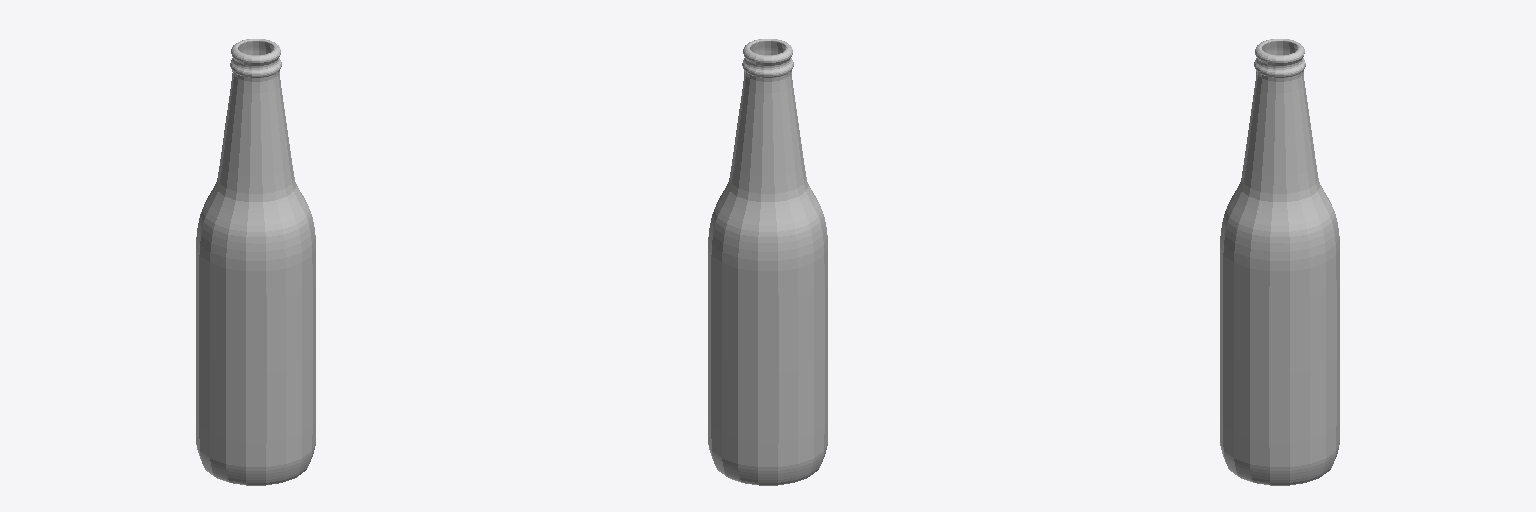
The model's file is beerbottle.obj.
The picture shows the model from 3 angles: view 1: azimuth 30°, elevation 25°; view 2: azimuth 150°, elevation 25°; view 3: azimuth 270°, elevation 25°; orthographic projection.
Parts seen in each view (by area): view 1: Beer_bottle_Circle; view 2: Beer_bottle_Circle; view 3: Beer_bottle_Circle.
Boxes of the visible parts, x1=… form: Beer_bottle_Circle: x1=196, y1=39, x2=315, y2=485; Beer_bottle_Circle: x1=708, y1=39, x2=827, y2=485; Beer_bottle_Circle: x1=1220, y1=39, x2=1339, y2=485.
Size of the model in its own units: 2.28 by 8.83 by 2.32.